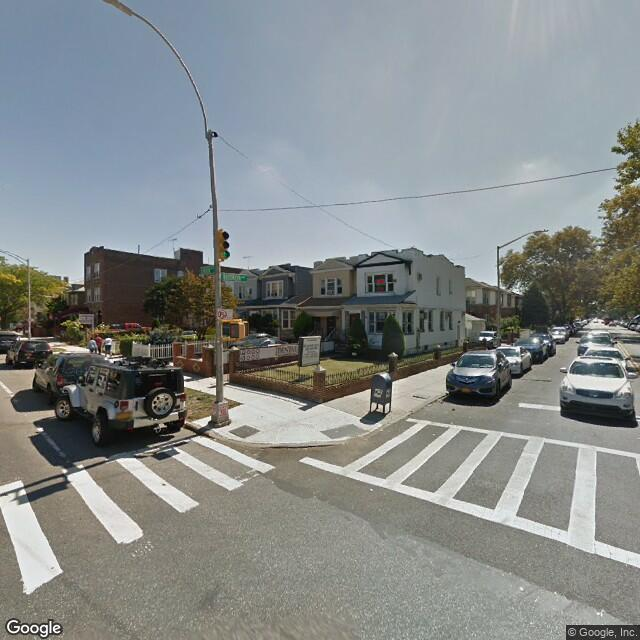litter: (368, 486, 374, 492), (450, 406, 456, 409)
